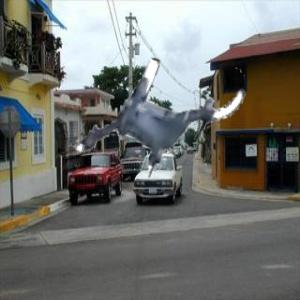drone: (86, 34, 245, 193)
